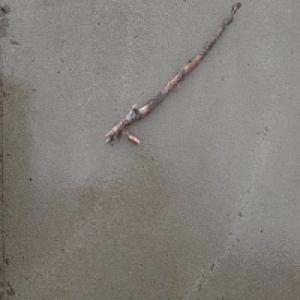Wood: (104, 0, 241, 147)
